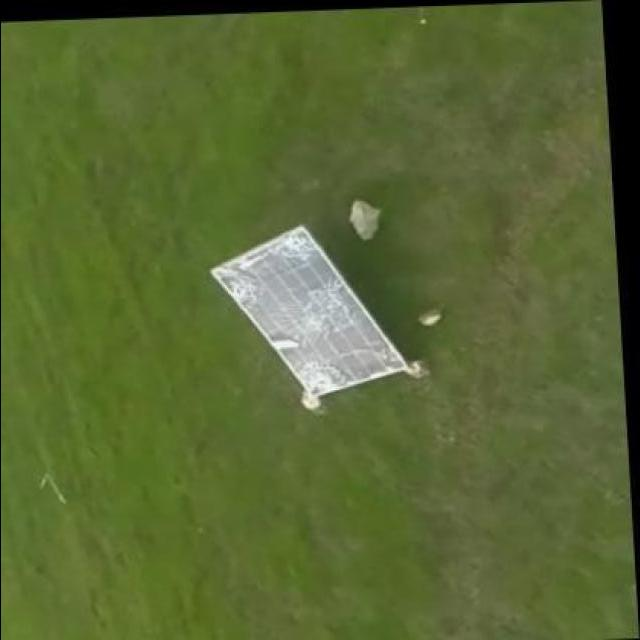cracked: (206, 222, 407, 406)
